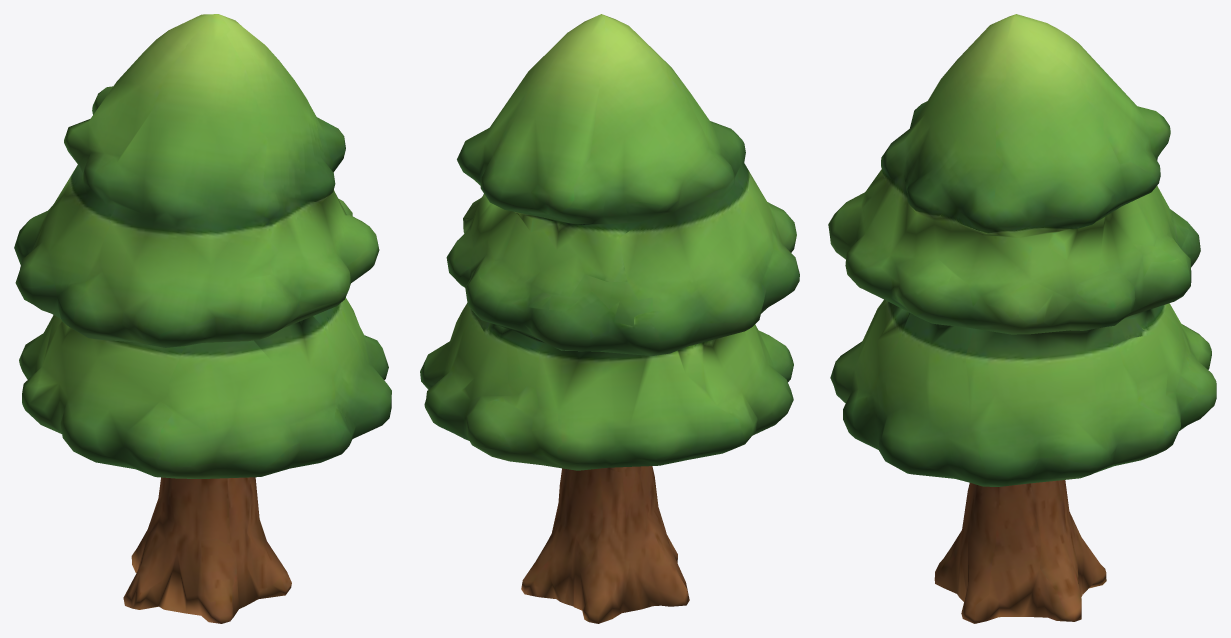
File: pine-tree.glb
The picture shows the model from 3 angles, left to right: view 1: azimuth 30°, elevation 25°; view 2: azimuth 150°, elevation 25°; view 3: azimuth 270°, elevation 25°; orthographic projection. The views are drawn at different scales.
Visible parts, largest first — view 1: trunk; view 2: trunk; view 3: trunk.
Boxes of the visible parts, x1,y1,x2,y2 form: trunk: (14, 14, 391, 623); trunk: (420, 14, 799, 623); trunk: (828, 14, 1216, 623).
Bounding box in the file's own units: 3.06 × 5.04 × 3.05.
Materials: 1 (1 with a texture image).
